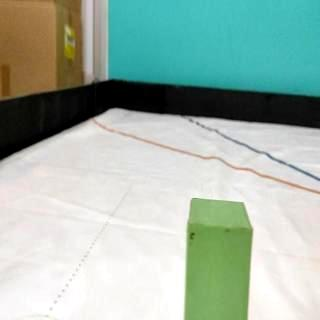greenbox: (184, 197, 255, 320)
